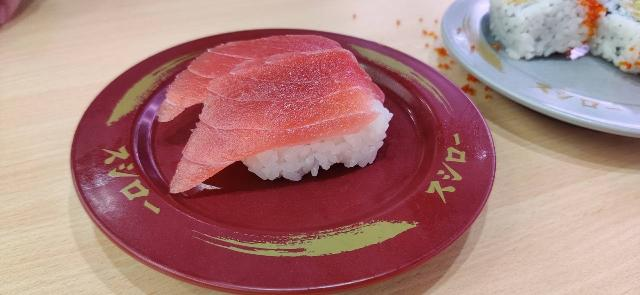janred: (76, 42, 494, 279)
janwhite: (451, 0, 640, 140)
